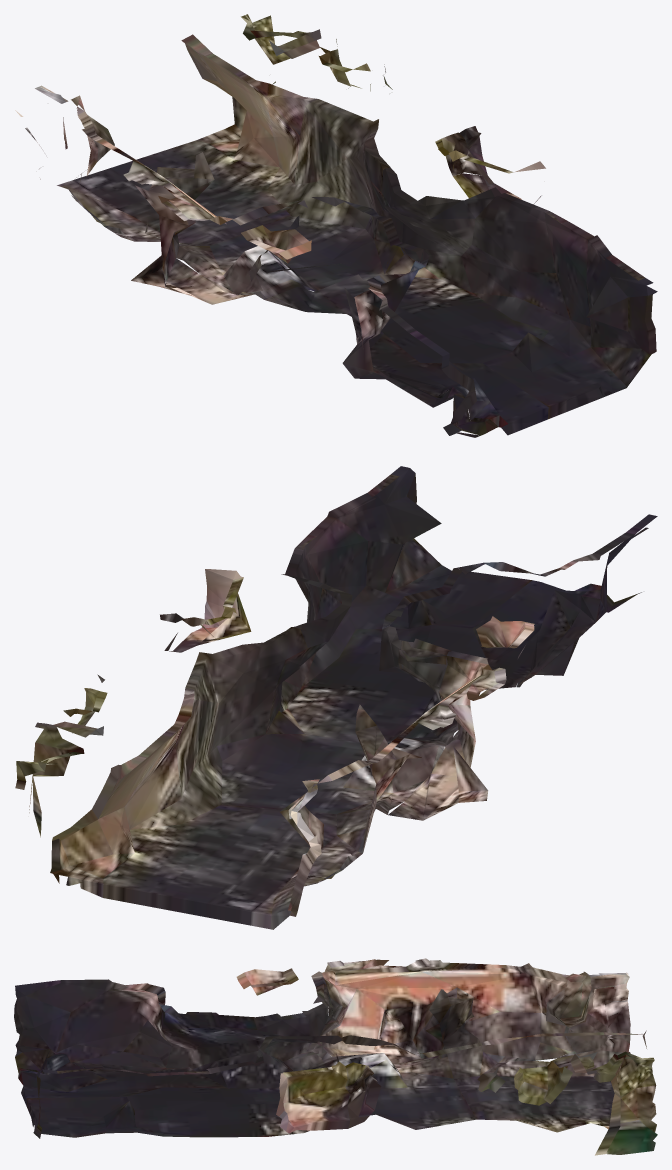
The picture shows the model from 3 angles, top to bottom: view 1: azimuth 30°, elevation 25°; view 2: azimuth 150°, elevation 25°; view 3: azimuth 270°, elevation 25°; orthographic projection. The views are drawn at different scales.
Parts seen in each view (by area): view 1: Mesh_0; view 2: Mesh_0; view 3: Mesh_0.
Boxes of the visible parts, left/top/right/bottom form: Mesh_0: left=15, top=14, right=657, bottom=437; Mesh_0: left=15, top=466, right=657, bottom=929; Mesh_0: left=14, top=958, right=657, bottom=1155.
Bounding box in the file's own units: 19.94 × 7.47 × 40.17.
Materials: 1 (1 with a texture image).
